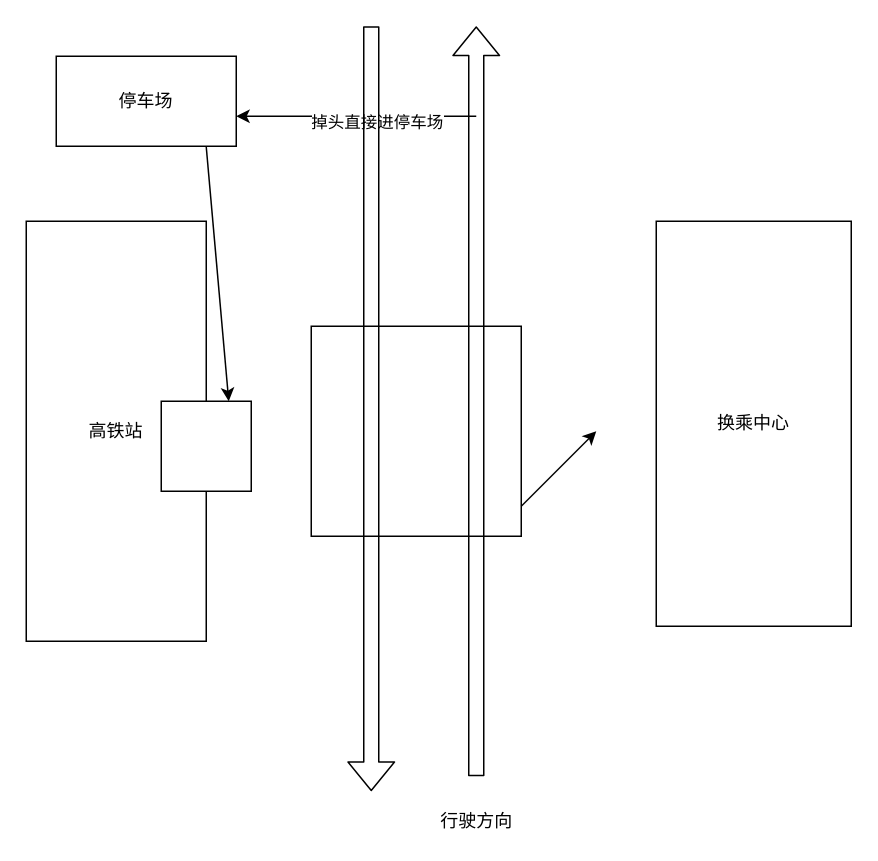
The diagram is 878 pixels wide and 861 high, and some of its shapes have lost their labels. Here are the shapes that lost their labels. From the top down, the centre of each, then its label:
At [205,445]: "出入口".
At [415,430]: "广场".
